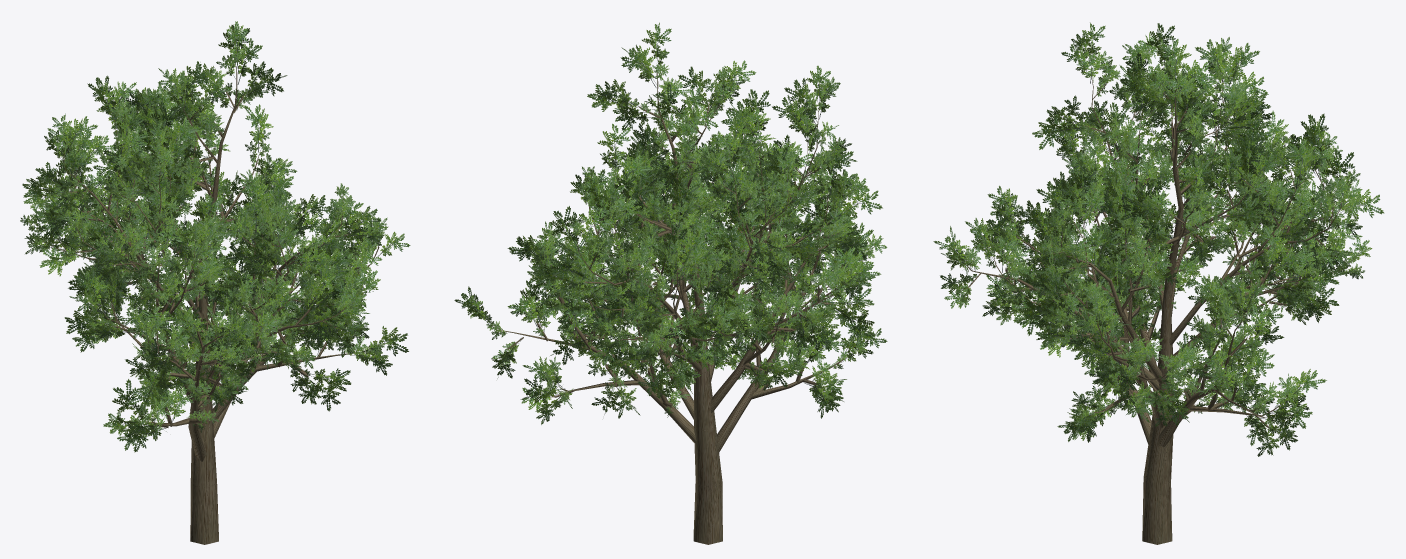
Rendered from tree_LOD1.gltf.
3 renders of one model, left to right at view 1: azimuth 30°, elevation 25°; view 2: azimuth 150°, elevation 25°; view 3: azimuth 270°, elevation 25°, orthographic. The views are drawn at different scales.
Visible parts, largest first — view 1: Leaves_LOD1, Branches_LOD1; view 2: Leaves_LOD1, Branches_LOD1; view 3: Leaves_LOD1, Branches_LOD1.
Part boxes in pixels (x1=…): Leaves_LOD1: x1=20, y1=21, x2=410, y2=452; Branches_LOD1: x1=40, y1=66, x2=378, y2=544; Leaves_LOD1: x1=454, y1=22, x2=887, y2=424; Branches_LOD1: x1=492, y1=72, x2=857, y2=544; Leaves_LOD1: x1=933, y1=22, x2=1384, y2=456; Branches_LOD1: x1=966, y1=67, x2=1345, y2=544.
Size of the model in its own units: 75.13 by 101 by 82.59.
Materials: 2 (2 with a texture image).
